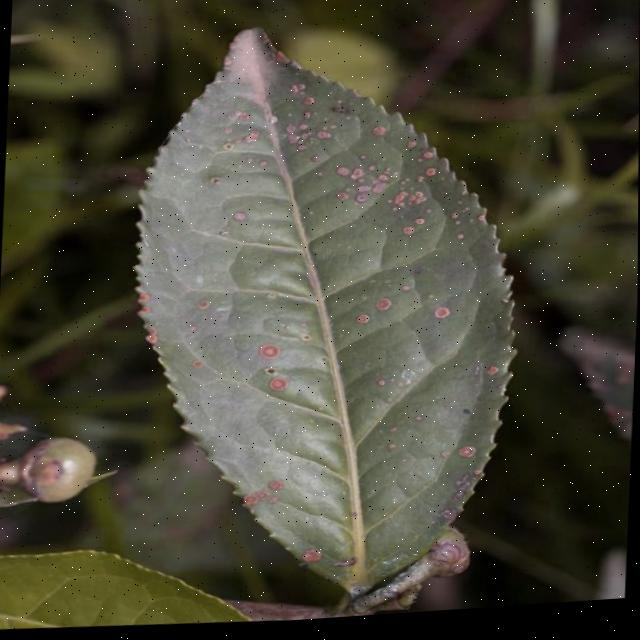Tea algae leaf spot: (143, 93, 515, 552)
